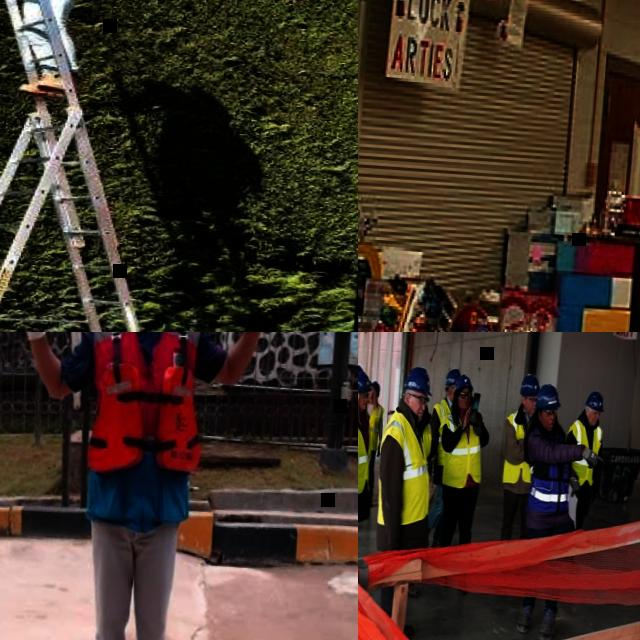Hardhat: (405, 366, 434, 396), (535, 382, 562, 411), (519, 372, 540, 396), (585, 390, 606, 412), (454, 372, 474, 394), (358, 369, 373, 393), (445, 367, 461, 386), (369, 380, 381, 396), (358, 364, 363, 374)
NO-Mask: (413, 406, 424, 421), (544, 419, 554, 431), (460, 400, 471, 410), (526, 405, 536, 413), (588, 416, 598, 424), (359, 402, 368, 409), (369, 392, 373, 398)
Person: (0, 332, 286, 640), (513, 381, 609, 640), (365, 363, 444, 640), (429, 372, 494, 594), (0, 0, 100, 96), (557, 388, 607, 564), (497, 372, 542, 540), (422, 366, 462, 546), (358, 369, 383, 559), (360, 378, 386, 506), (419, 406, 435, 459), (358, 362, 362, 384)
Safety Vest: (81, 332, 211, 477), (373, 408, 436, 528), (520, 424, 575, 512), (435, 410, 487, 490), (563, 417, 603, 486), (502, 410, 538, 484), (429, 398, 454, 464), (358, 416, 375, 494), (367, 404, 385, 452)
